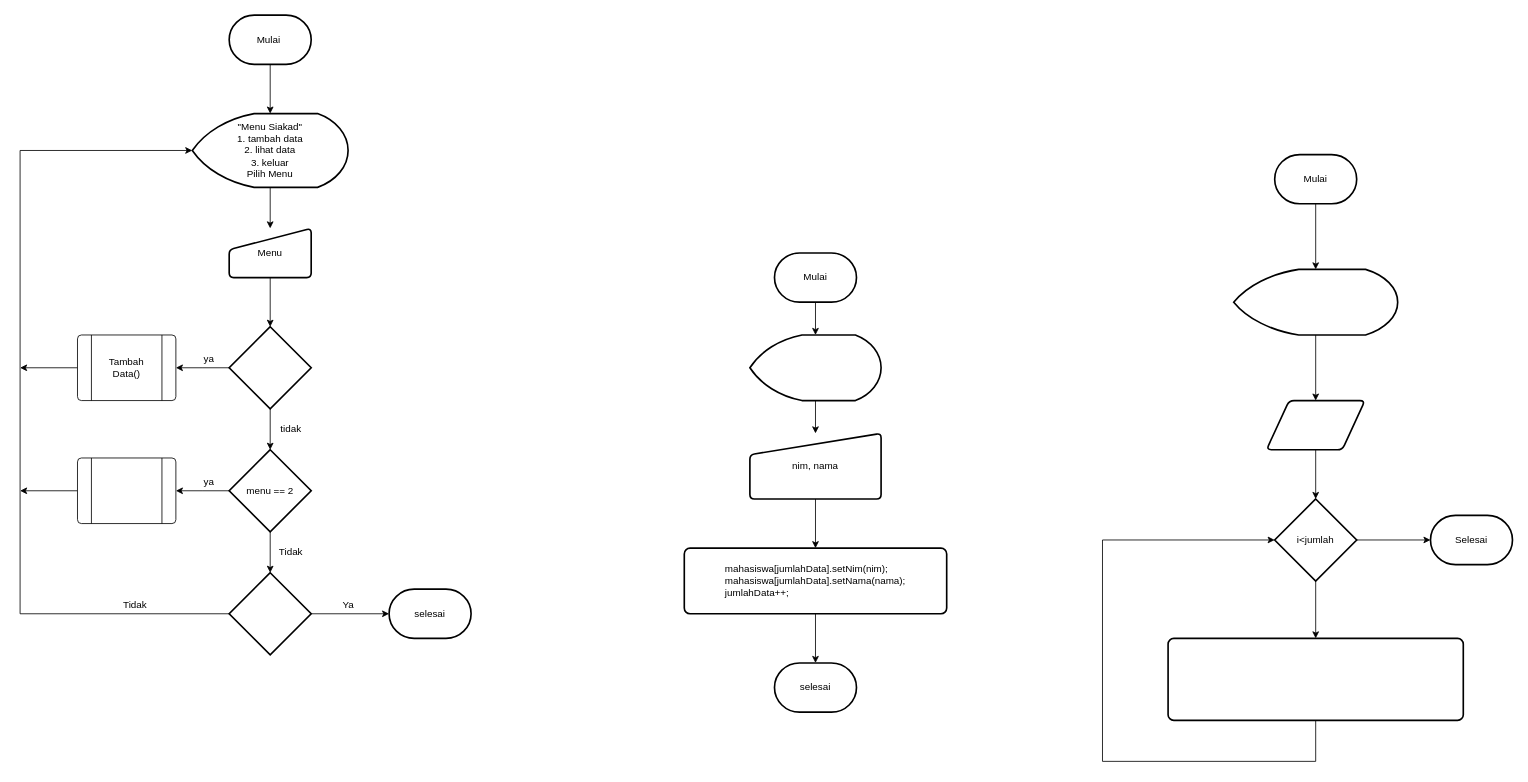
This 1528x782 diagram has some shape labels left out. The shapes that lost their labels are listed below. From the top down, each one's centre as x and y in pixels, then its label:
the point at 1315,301: Berikut Data Anda
the point at 270,367: menu == 1
the point at 815,367: "Silahkan Tambah Data"
the point at 1315,424: i=0
the point at 126,490: Tampil Data()
the point at 270,613: menu == 3
